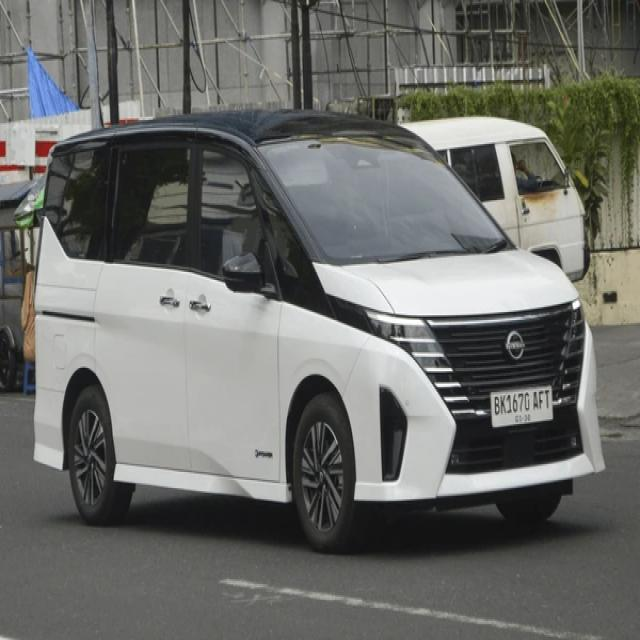nissan: (504, 331, 527, 360)
